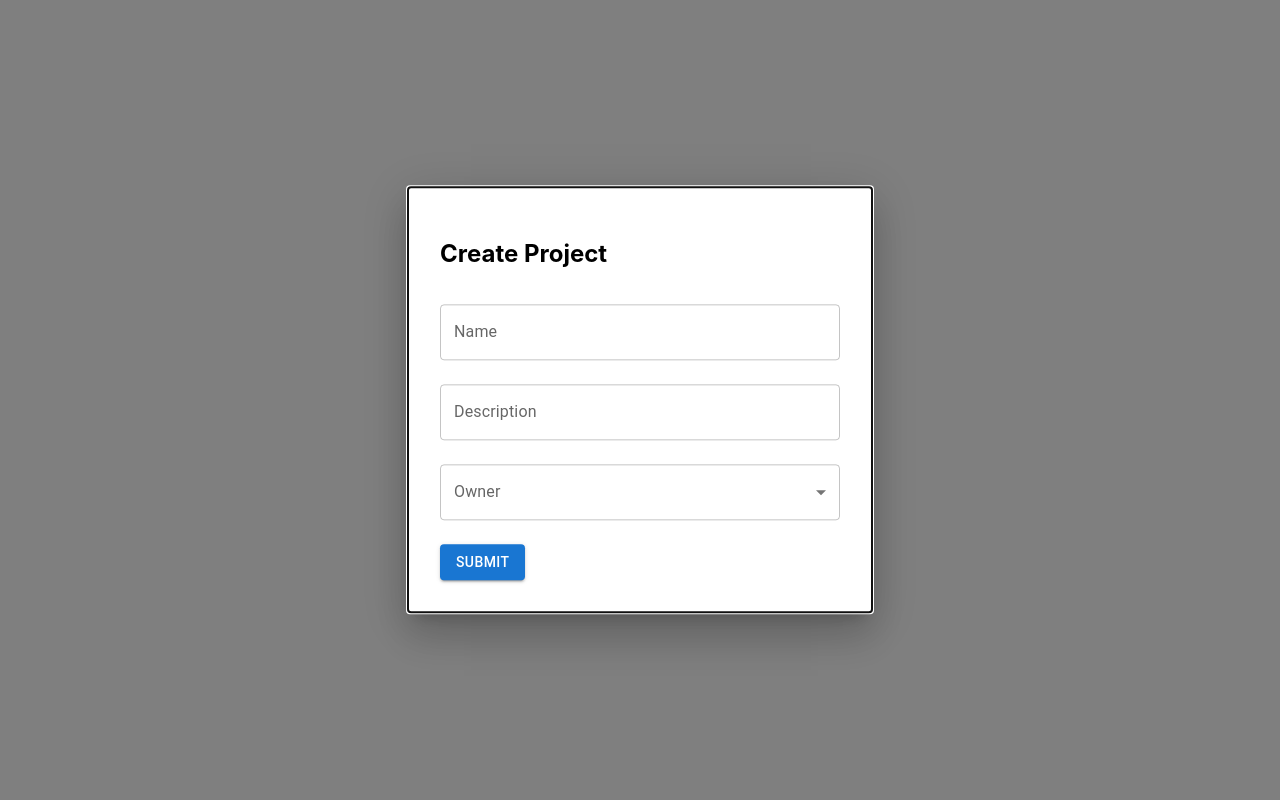
Test case: ProjectFormModal Validation › displays validation errors when submitting an empty form
What coordinates should you click on to do the following:
click the button "Submit"
I would click on:
 (483, 562)
Its box is [440,544,525,581].
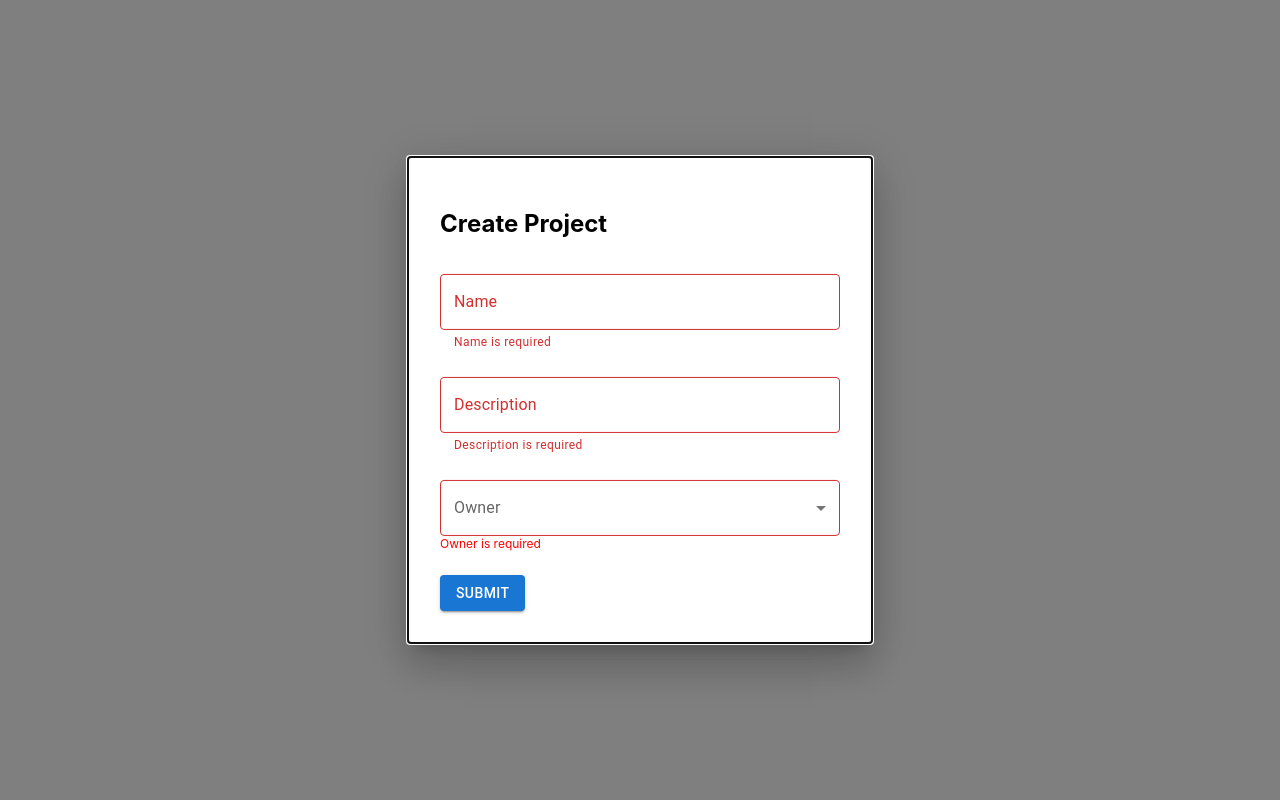
Expected: the text "Name is required" is shown, [454,335,551,349]
Expected: the text "Description is required" is shown, [454,438,583,452]
Expected: the text "Owner is required" is shown, [440,536,541,551]
